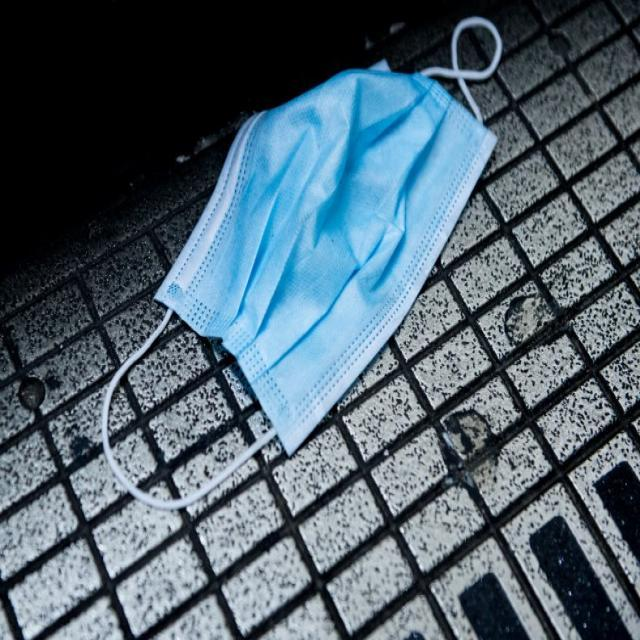face mask: (97, 24, 506, 504)
